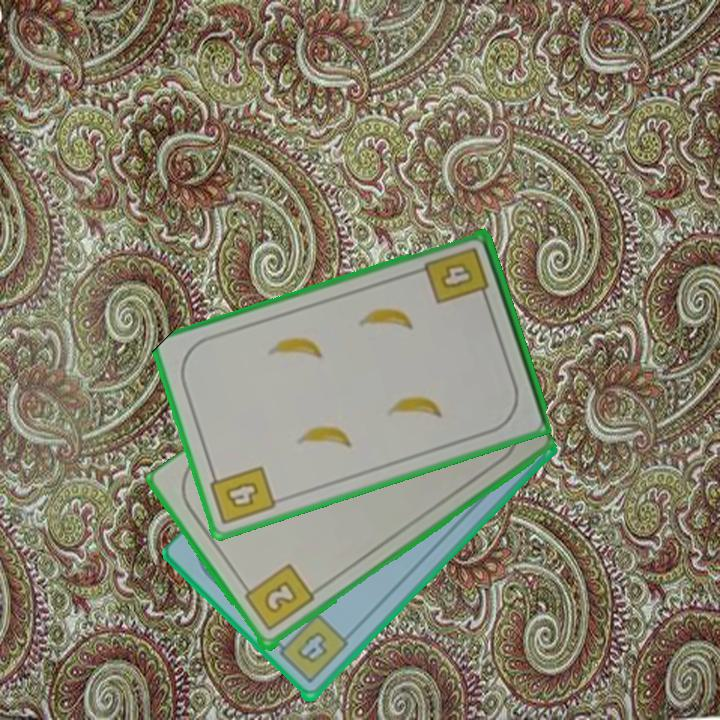2b: (238, 561, 317, 634)
4b: (270, 611, 351, 688), (206, 462, 279, 529), (421, 243, 492, 308)
